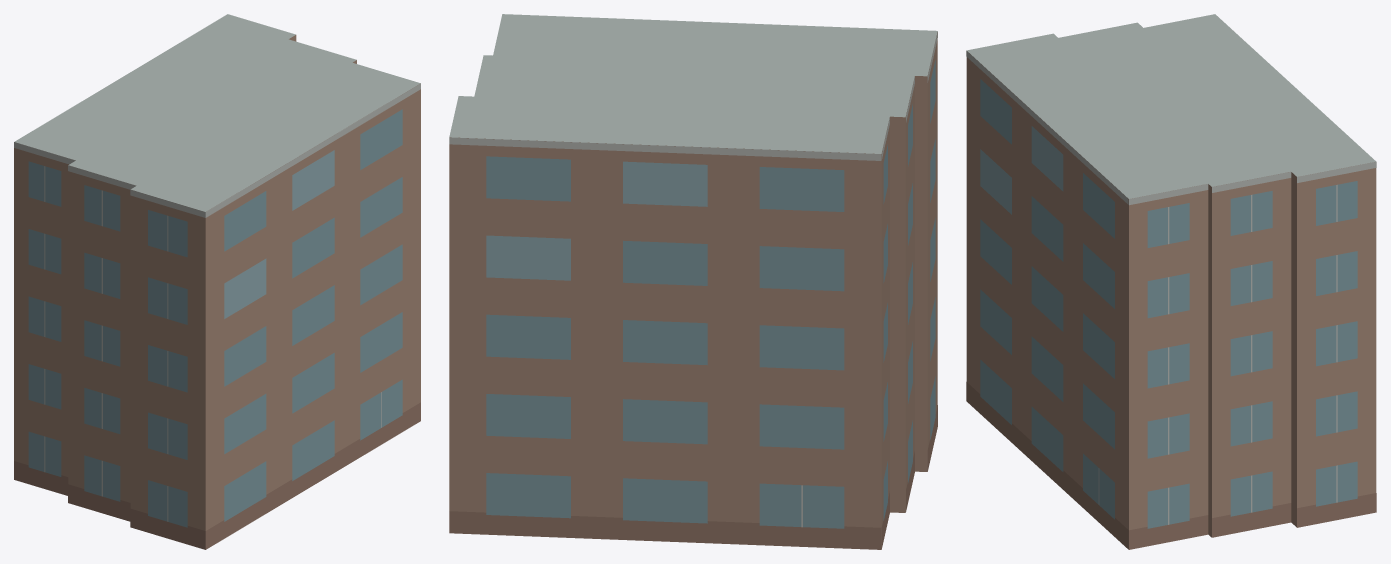
Rendered from survey-upis-32668627.glb.
3 renders of one model, left to right at view 1: azimuth 30°, elevation 25°; view 2: azimuth 150°, elevation 25°; view 3: azimuth 270°, elevation 25°, orthographic. The views are drawn at different scales.
Visible parts, largest first — view 1: survey-upis-32668627.tmp; view 2: survey-upis-32668627.tmp; view 3: survey-upis-32668627.tmp.
Part boxes in pixels (box(x1,y1,x2,y2)): survey-upis-32668627.tmp: box(14, 14, 420, 549); survey-upis-32668627.tmp: box(449, 14, 937, 549); survey-upis-32668627.tmp: box(966, 14, 1376, 549).
Size of the model in its own units: 15.62 by 13.8 by 14.62.
